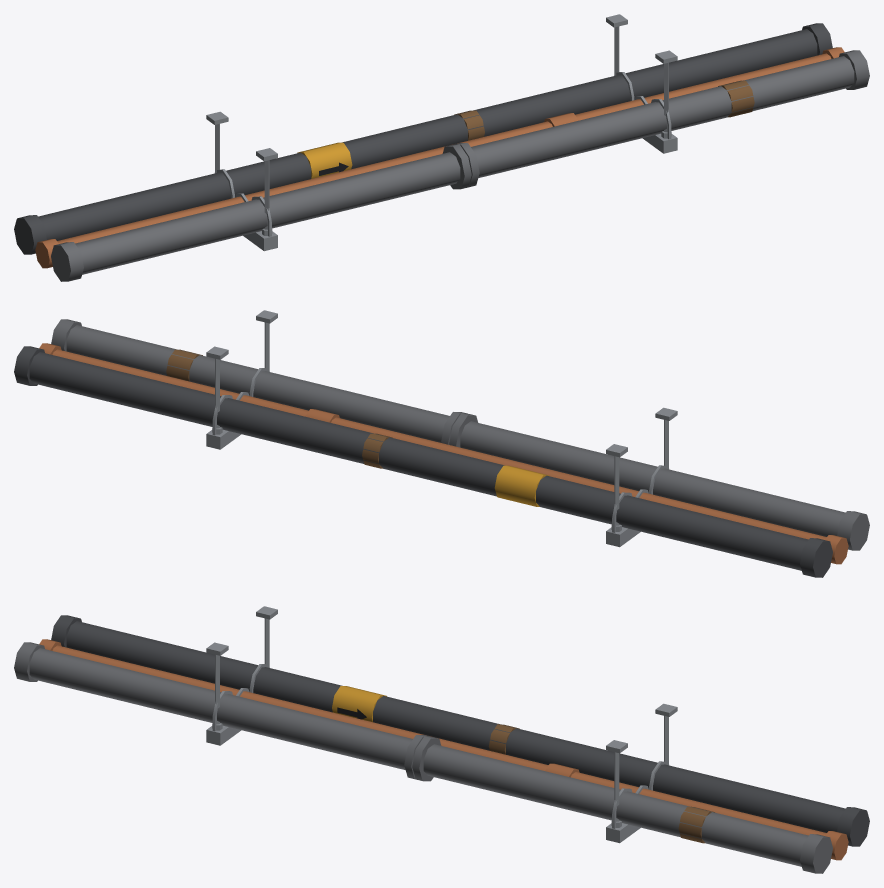
The model's file is Basement_PipeRun.fbx.
3 renders of one model, top to bottom at view 1: azimuth 30°, elevation 25°; view 2: azimuth 150°, elevation 25°; view 3: azimuth 330°, elevation 25°, orthographic.
Parts seen in each view (by area): view 1: PipeGrey, PipeDark, PipeCopper, Hangers, Rust, IdBand; view 2: PipeDark, PipeGrey, PipeCopper, Hangers, IdBand, Rust; view 3: PipeGrey, PipeDark, PipeCopper, Hangers, Rust, IdBand.
Boxes of the visible parts, <box> form: PipeGrey: <box>51,50,869,281</box>; PipeDark: <box>14,23,832,254</box>; PipeCopper: <box>35,47,844,268</box>; Hangers: <box>206,14,677,251</box>; Rust: <box>454,80,754,140</box>; IdBand: <box>297,142,352,178</box>; PipeDark: <box>14,346,832,577</box>; PipeGrey: <box>51,319,869,550</box>; PipeCopper: <box>39,343,848,564</box>; Hangers: <box>206,310,677,547</box>; IdBand: <box>494,465,549,506</box>; Rust: <box>166,349,392,468</box>; PipeGrey: <box>14,642,832,873</box>; PipeDark: <box>51,615,869,846</box>; PipeCopper: <box>39,639,848,860</box>; Hangers: <box>206,606,677,843</box>; Rust: <box>488,724,714,843</box>; IdBand: <box>332,686,386,722</box>.
Size of the model in its own units: 800 by 90 by 103.
